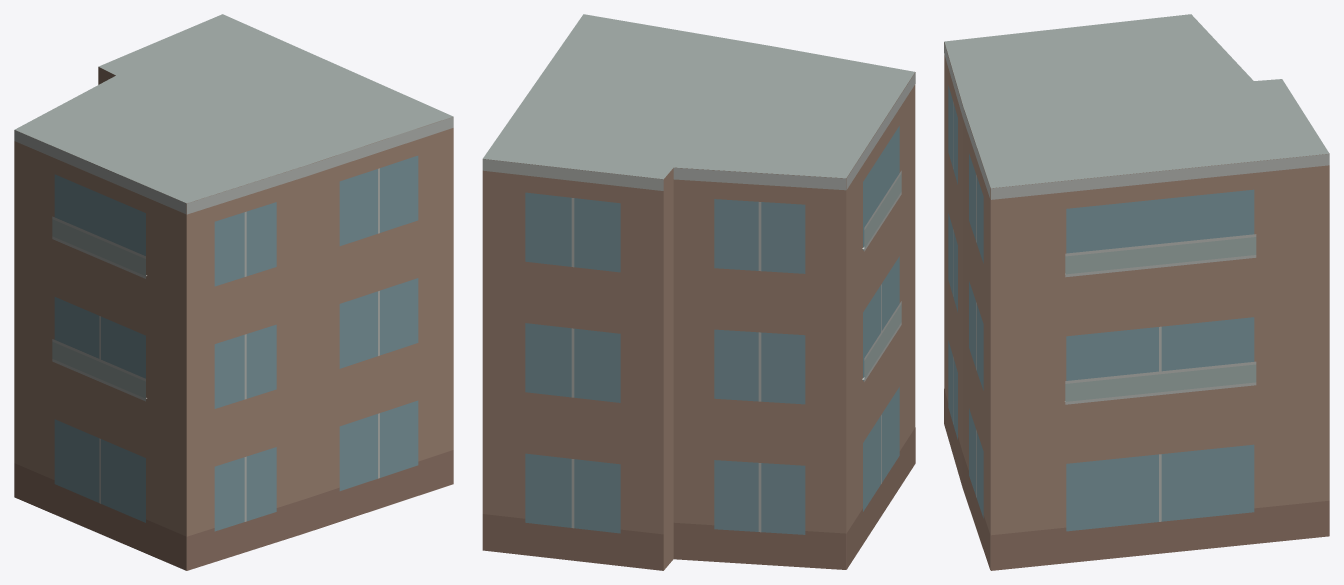
File: survey-upis-32464959.glb
3 renders of one model, left to right at view 1: azimuth 30°, elevation 25°; view 2: azimuth 150°, elevation 25°; view 3: azimuth 270°, elevation 25°, orthographic. The views are drawn at different scales.
Parts seen in each view (by area): view 1: survey-upis-32464959.tmp; view 2: survey-upis-32464959.tmp; view 3: survey-upis-32464959.tmp.
Part boxes in pixels (<box>): survey-upis-32464959.tmp: <box>14,14,453,570</box>; survey-upis-32464959.tmp: <box>482,14,915,570</box>; survey-upis-32464959.tmp: <box>944,14,1329,570</box>.
Bounding box in the file's own units: 7.83 × 8 × 7.31.
